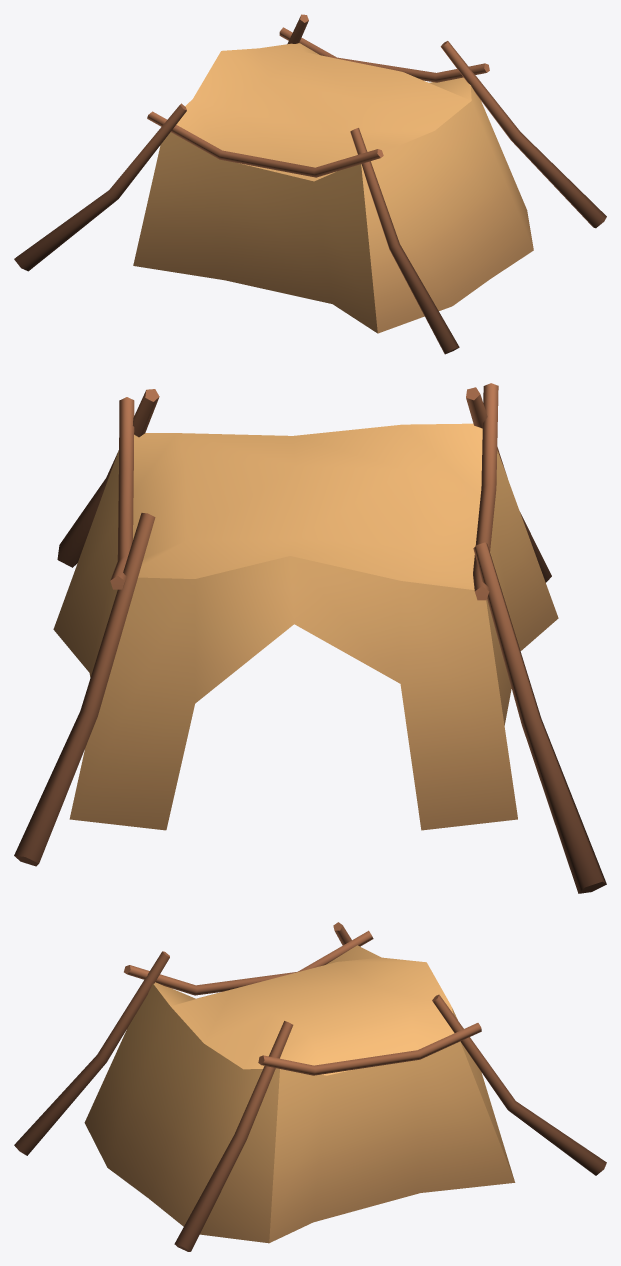
Rendered from tent2.fbx.
The picture shows the model from 3 angles, top to bottom: view 1: azimuth 30°, elevation 25°; view 2: azimuth 150°, elevation 25°; view 3: azimuth 270°, elevation 25°; orthographic projection. The views are drawn at different scales.
Parts seen in each view (by area): view 1: tent2; view 2: tent2; view 3: tent2.
Part boxes in pixels (bbox=[...]): tent2: bbox=[14, 14, 606, 354]; tent2: bbox=[14, 383, 606, 893]; tent2: bbox=[14, 922, 606, 1251].
Size of the model in its own units: 1330 by 516 by 1397.
